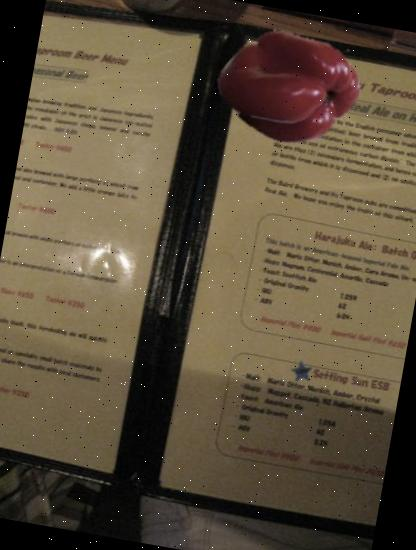Pepper: (216, 11, 364, 158)
